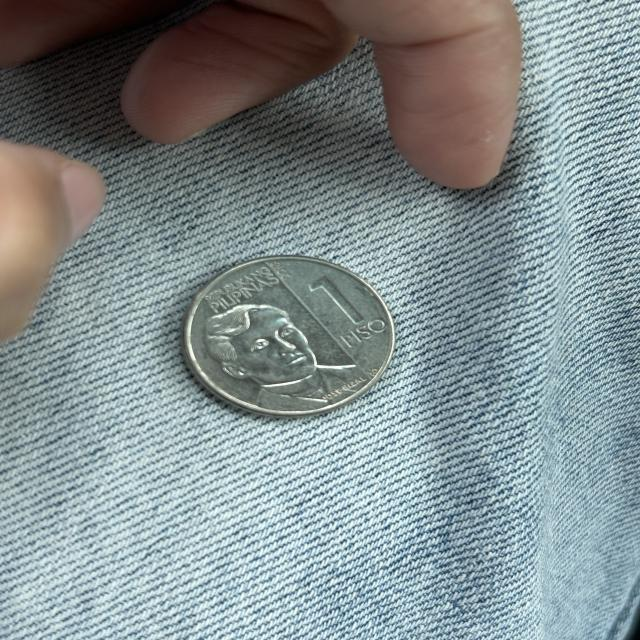1_New_Front: (296, 267, 388, 350)
